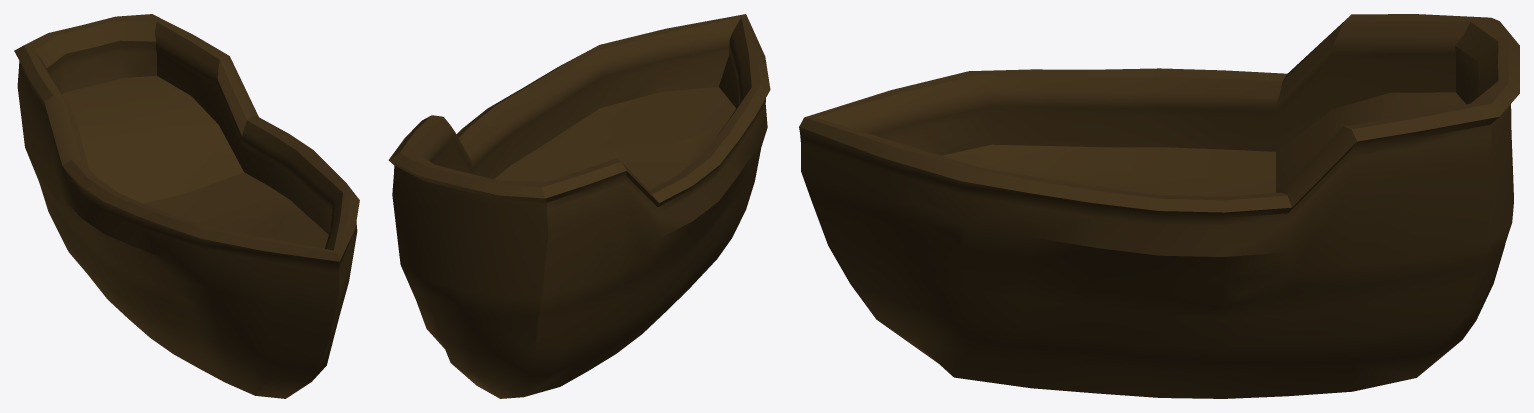
3 views of the same model, side by side, from view 1: azimuth 30°, elevation 25°; view 2: azimuth 150°, elevation 25°; view 3: azimuth 270°, elevation 25° (orthographic). The views are drawn at different scales.
Visible parts, largest first — view 1: barco101; view 2: barco101; view 3: barco101.
Part boxes in pixels (x1,y1,x2,y2): barco101: [14, 14, 359, 398]; barco101: [388, 14, 770, 398]; barco101: [799, 14, 1519, 398].
Size of the model in its own units: 2.22 by 2.45 by 4.8.
